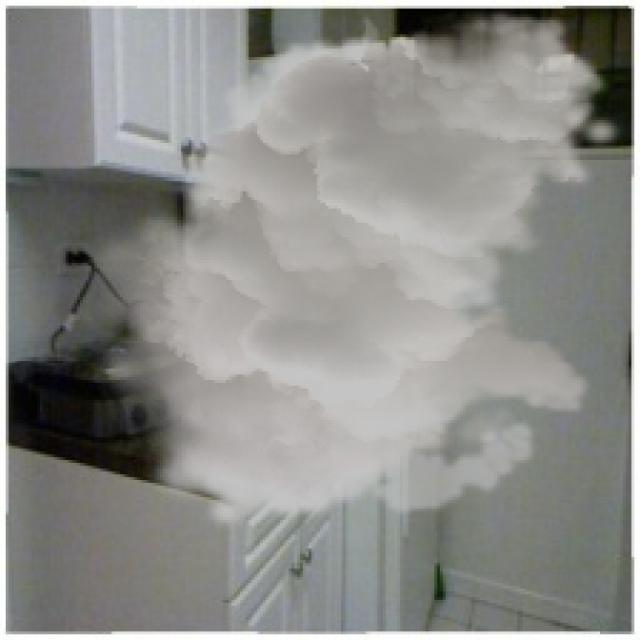smoke: (80, 9, 626, 532)
